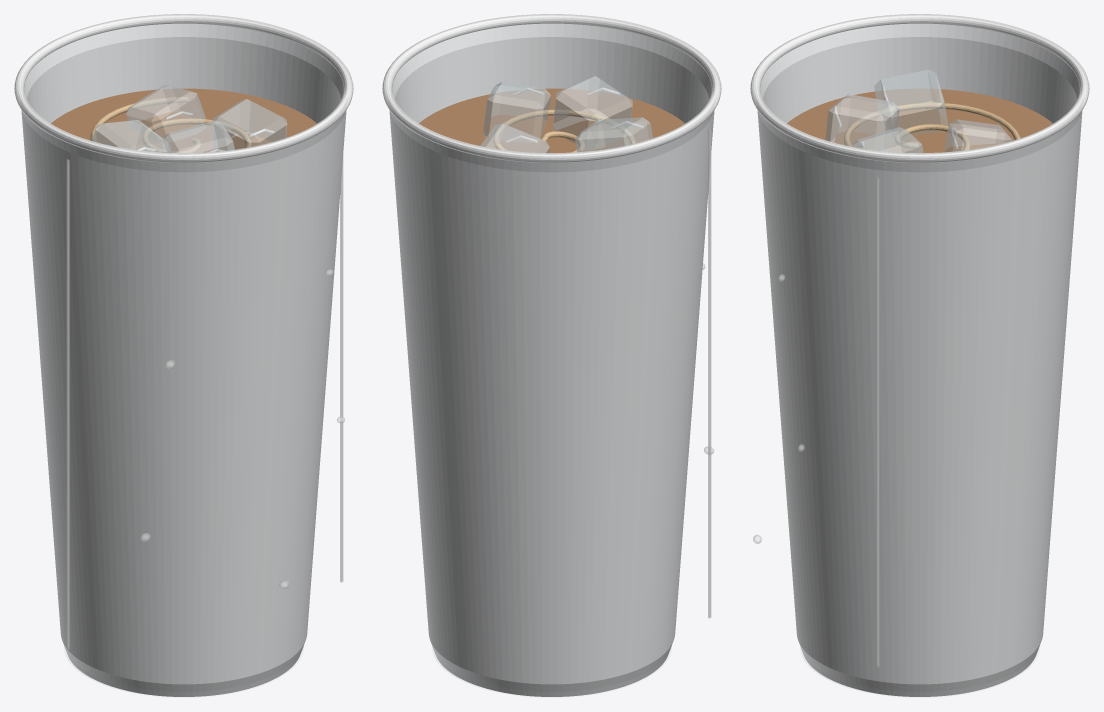
The model's file is aren-latte.glb.
The picture shows the model from 3 angles, left to right: view 1: azimuth 30°, elevation 25°; view 2: azimuth 150°, elevation 25°; view 3: azimuth 270°, elevation 25°; orthographic projection.
Visible parts, largest first — view 1: Very clear glass wall, Liquid surface, Glass top rim, Translucent ice cube 04, Translucent ice cube 03, Glass edge highlight left, Translucent ice cube 01, Translucent ice cube 02, Cream and syrup surface swirl, Glass edge highlight right; view 2: Very clear glass wall, Liquid surface, Glass top rim, Translucent ice cube 02, Translucent ice cube 03, Translucent ice cube 01, Glass edge highlight left, Cream and syrup surface swirl, Translucent ice cube 04; view 3: Very clear glass wall, Liquid surface, Glass top rim, Translucent ice cube 01, Translucent ice cube 02, Cream and syrup surface swirl, Glass edge highlight right, Translucent ice cube 04, Translucent ice cube 03.
Part boxes in pixels (box(x1,y1,x2,y2)): Very clear glass wall: box(18, 16, 349, 696); Liquid surface: box(51, 88, 316, 152); Glass top rim: box(14, 14, 353, 162); Translucent ice cube 04: box(126, 84, 206, 138); Translucent ice cube 03: box(211, 99, 287, 149); Glass edge highlight left: box(66, 159, 69, 649); Translucent ice cube 01: box(92, 120, 171, 152); Translucent ice cube 02: box(162, 120, 234, 152); Cream and syrup surface swirl: box(90, 97, 251, 152); Glass edge highlight right: box(340, 155, 343, 582); Very clear glass wall: box(386, 16, 717, 696); Liquid surface: box(419, 88, 684, 152); Glass top rim: box(382, 14, 721, 162); Translucent ice cube 02: box(553, 76, 632, 143); Translucent ice cube 03: box(483, 81, 550, 138); Translucent ice cube 01: box(575, 117, 652, 152); Glass edge highlight left: box(708, 128, 711, 618); Cream and syrup surface swirl: box(493, 109, 635, 152); Translucent ice cube 04: box(480, 123, 549, 152); Very clear glass wall: box(754, 16, 1085, 696); Liquid surface: box(787, 89, 1052, 152); Glass top rim: box(750, 14, 1089, 162); Translucent ice cube 01: box(874, 70, 948, 134); Translucent ice cube 02: box(825, 94, 899, 146); Cream and syrup surface swirl: box(844, 102, 1020, 150); Glass edge highlight right: box(876, 177, 879, 667); Translucent ice cube 04: box(944, 119, 1011, 151); Translucent ice cube 03: box(852, 127, 923, 152).
Bounding box in the file's own units: 0.616 × 1.13 × 0.616.
